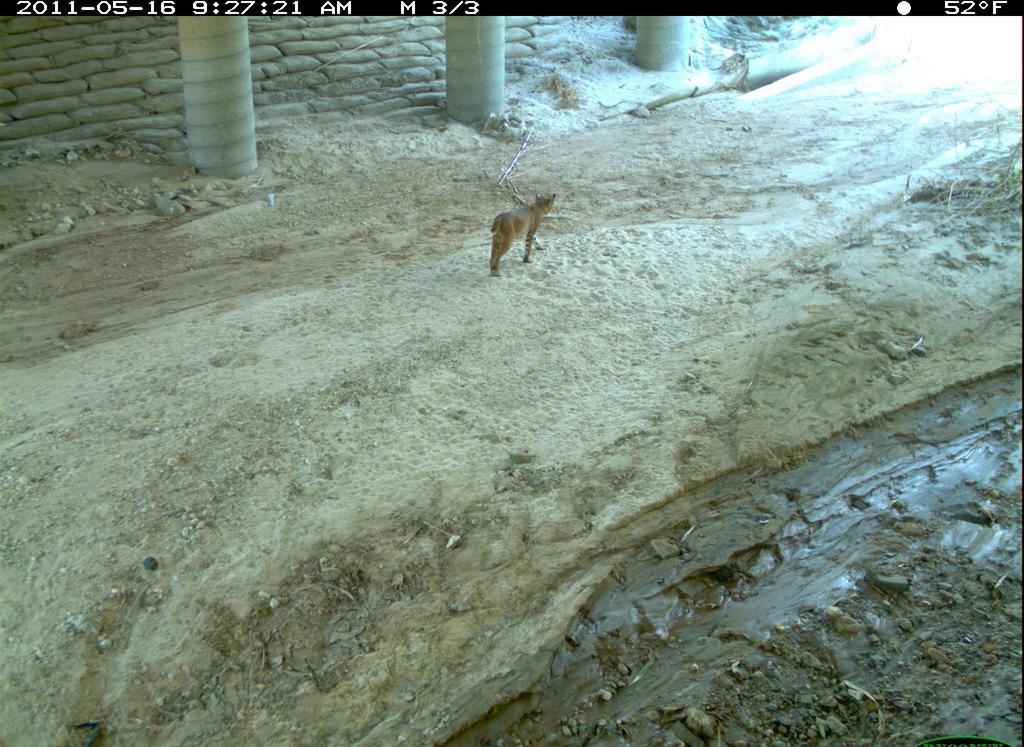bobcat: (482, 189, 571, 296)
